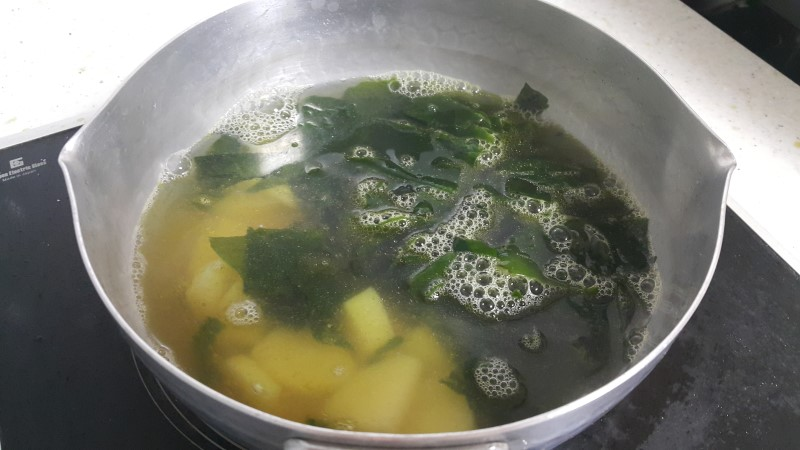miyeoggug: (83, 6, 725, 450)
